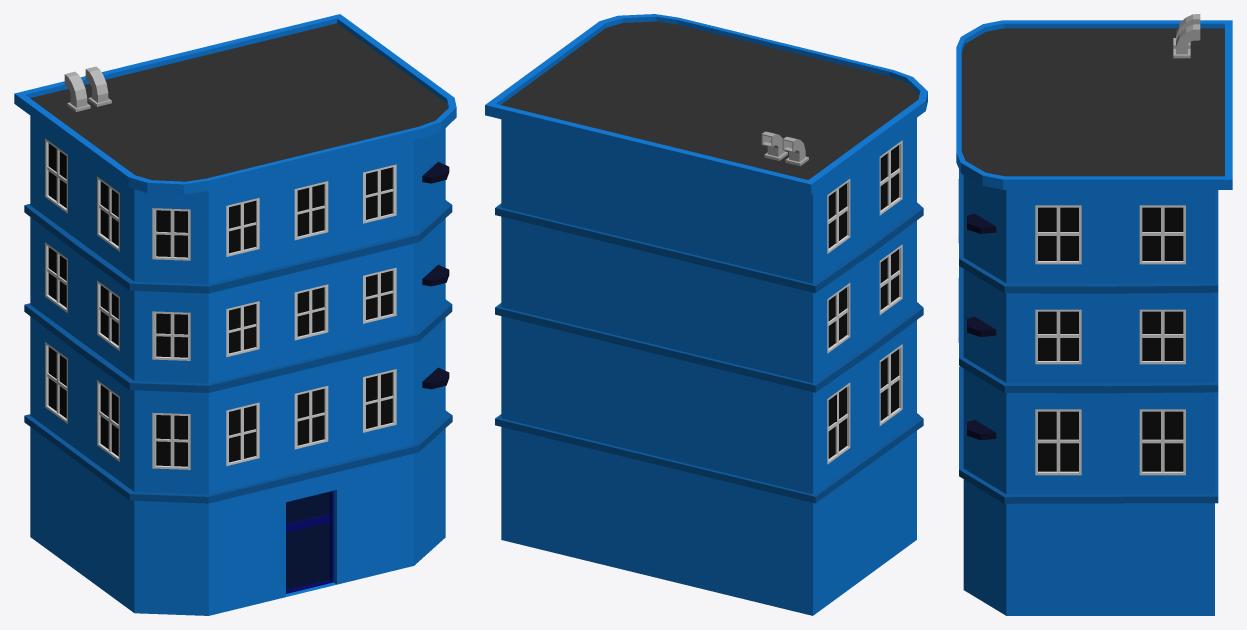
The model's file is Building_5.fbx.
3 views of the same model, side by side, from view 1: azimuth 30°, elevation 25°; view 2: azimuth 150°, elevation 25°; view 3: azimuth 270°, elevation 25° (orthographic).
Parts seen in each view (by area): view 1: Cube; view 2: Cube; view 3: Cube.
Part boxes in pixels (bbox=[...]): Cube: bbox=[14, 14, 456, 615]; Cube: bbox=[485, 14, 927, 615]; Cube: bbox=[956, 14, 1232, 615].
Size of the model in its own units: 971 by 1315 by 711.
